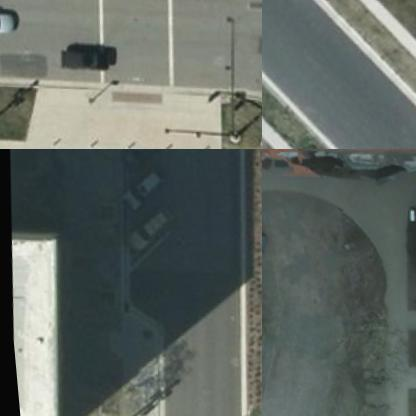car: (116, 156, 178, 218), (122, 193, 185, 254), (52, 40, 112, 69), (115, 149, 177, 177), (0, 3, 16, 32)
